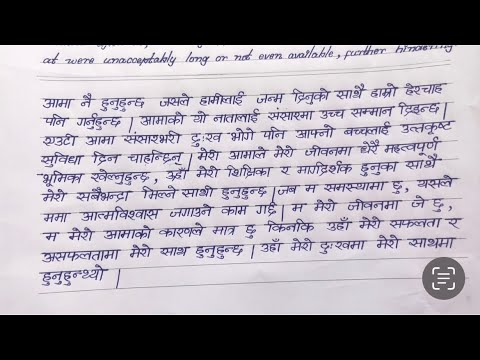text: (37, 264, 110, 286), (80, 205, 164, 222), (40, 247, 121, 263), (126, 148, 183, 167), (384, 137, 441, 156), (90, 168, 153, 185), (123, 130, 183, 146), (324, 179, 388, 193), (345, 197, 404, 212), (400, 119, 455, 135), (75, 187, 133, 202), (296, 160, 354, 175), (75, 113, 123, 131), (159, 221, 206, 239), (289, 86, 331, 106), (213, 107, 261, 124), (103, 224, 153, 240), (195, 243, 245, 259), (343, 121, 392, 137), (225, 163, 274, 179), (265, 218, 317, 233), (37, 170, 85, 186), (318, 239, 366, 255), (40, 151, 85, 168), (406, 235, 457, 250), (304, 143, 354, 158), (138, 111, 187, 126), (266, 107, 315, 122), (220, 185, 268, 200), (199, 91, 246, 106), (389, 217, 443, 230), (403, 82, 449, 97), (100, 97, 145, 112), (397, 101, 442, 116), (168, 203, 213, 218), (360, 160, 399, 177), (415, 174, 459, 189), (294, 124, 335, 139), (405, 155, 443, 171), (141, 183, 178, 199), (350, 105, 395, 118), (335, 83, 367, 101), (228, 146, 268, 160), (189, 131, 223, 147), (158, 93, 192, 108), (370, 82, 399, 99), (42, 133, 77, 147), (41, 96, 75, 110), (181, 185, 217, 198), (91, 150, 120, 166), (229, 127, 256, 144), (128, 243, 154, 260), (86, 133, 116, 147), (260, 126, 288, 141), (39, 189, 69, 203), (67, 226, 95, 241), (195, 147, 222, 162), (327, 216, 352, 232), (157, 245, 190, 257), (358, 139, 381, 156), (219, 204, 249, 217), (357, 215, 383, 230), (272, 144, 296, 160), (260, 238, 284, 254), (43, 113, 70, 127), (42, 210, 69, 224), (313, 198, 338, 213), (290, 237, 313, 253), (194, 165, 220, 179), (255, 92, 285, 104), (376, 234, 400, 249), (212, 223, 237, 237), (190, 109, 210, 126), (319, 109, 347, 121), (255, 202, 278, 216), (277, 183, 301, 196), (165, 169, 189, 181), (411, 194, 427, 210), (79, 92, 94, 109), (445, 217, 464, 230), (389, 179, 404, 195), (431, 197, 445, 214), (244, 223, 257, 240), (42, 231, 61, 242), (304, 181, 318, 195), (289, 203, 308, 212), (279, 164, 292, 177)
